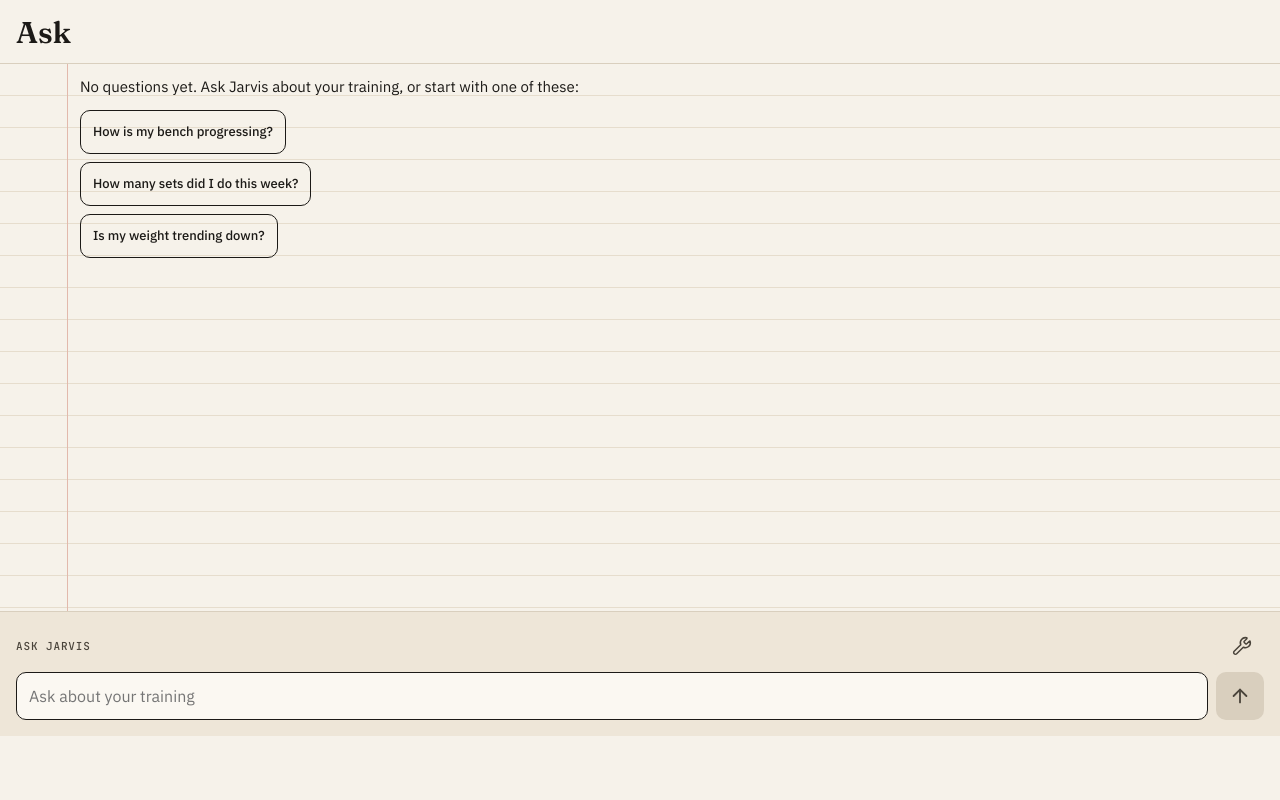
Ask page › with no questions yet, invites one and offers examples that fill the box
Expected: the text "No questions yet" is shown, [80,76,579,96]
Click the button "How is my bench progressing?" at (183, 132), box [80,110,286,154]
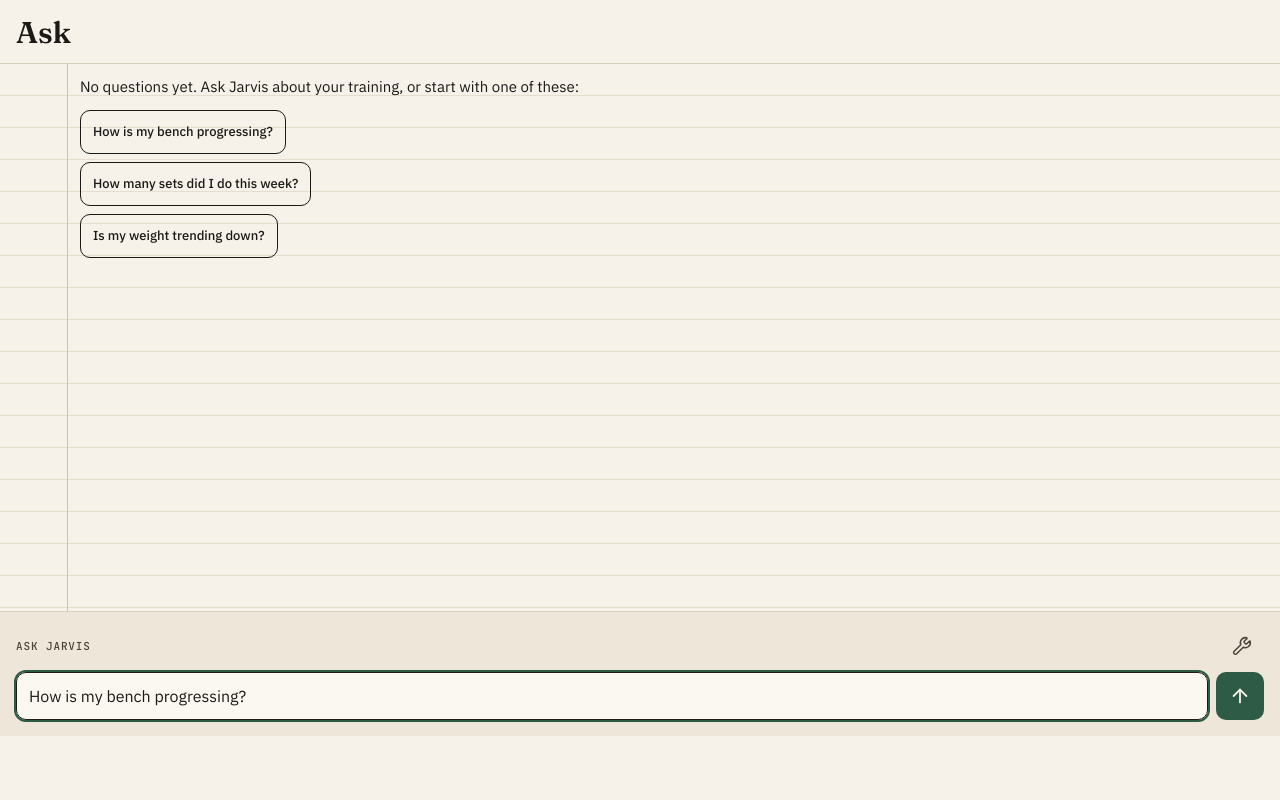
Now the text box labelled "Ask Jarvis" holds "How is my bench progressing?", box [16,672,1208,720]
